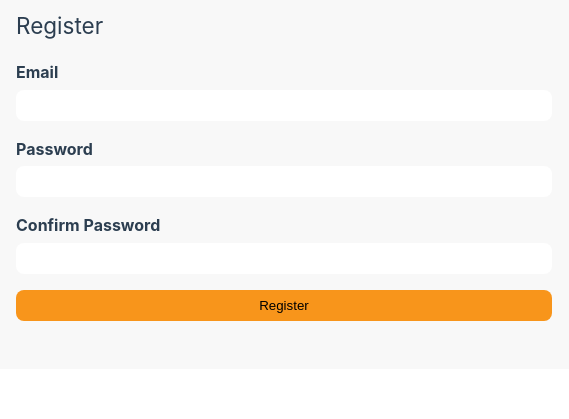
Test case: RegisterForm › should hide error message when email is entered
Click the button "Register" at (284, 305), box [16, 290, 552, 321]
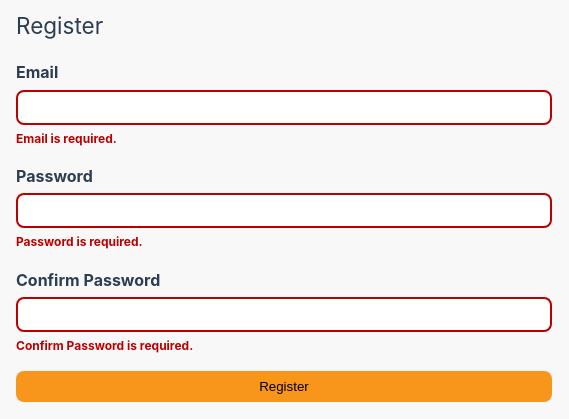
Expected: the text "Email is required." is shown, [16, 131, 117, 146]
Type "test@test.com" into the field labelled "Email" at (284, 107), box [16, 90, 552, 125]
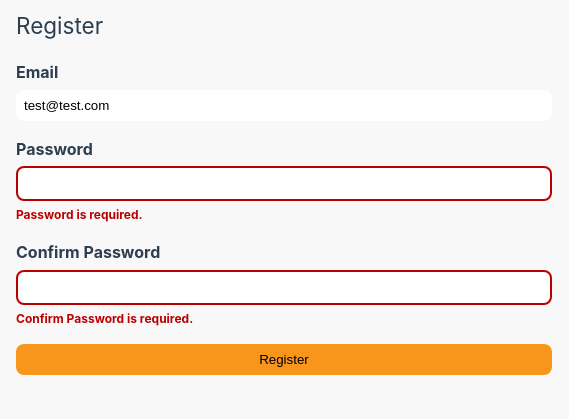
Expected: the text "Email is required" is gone
